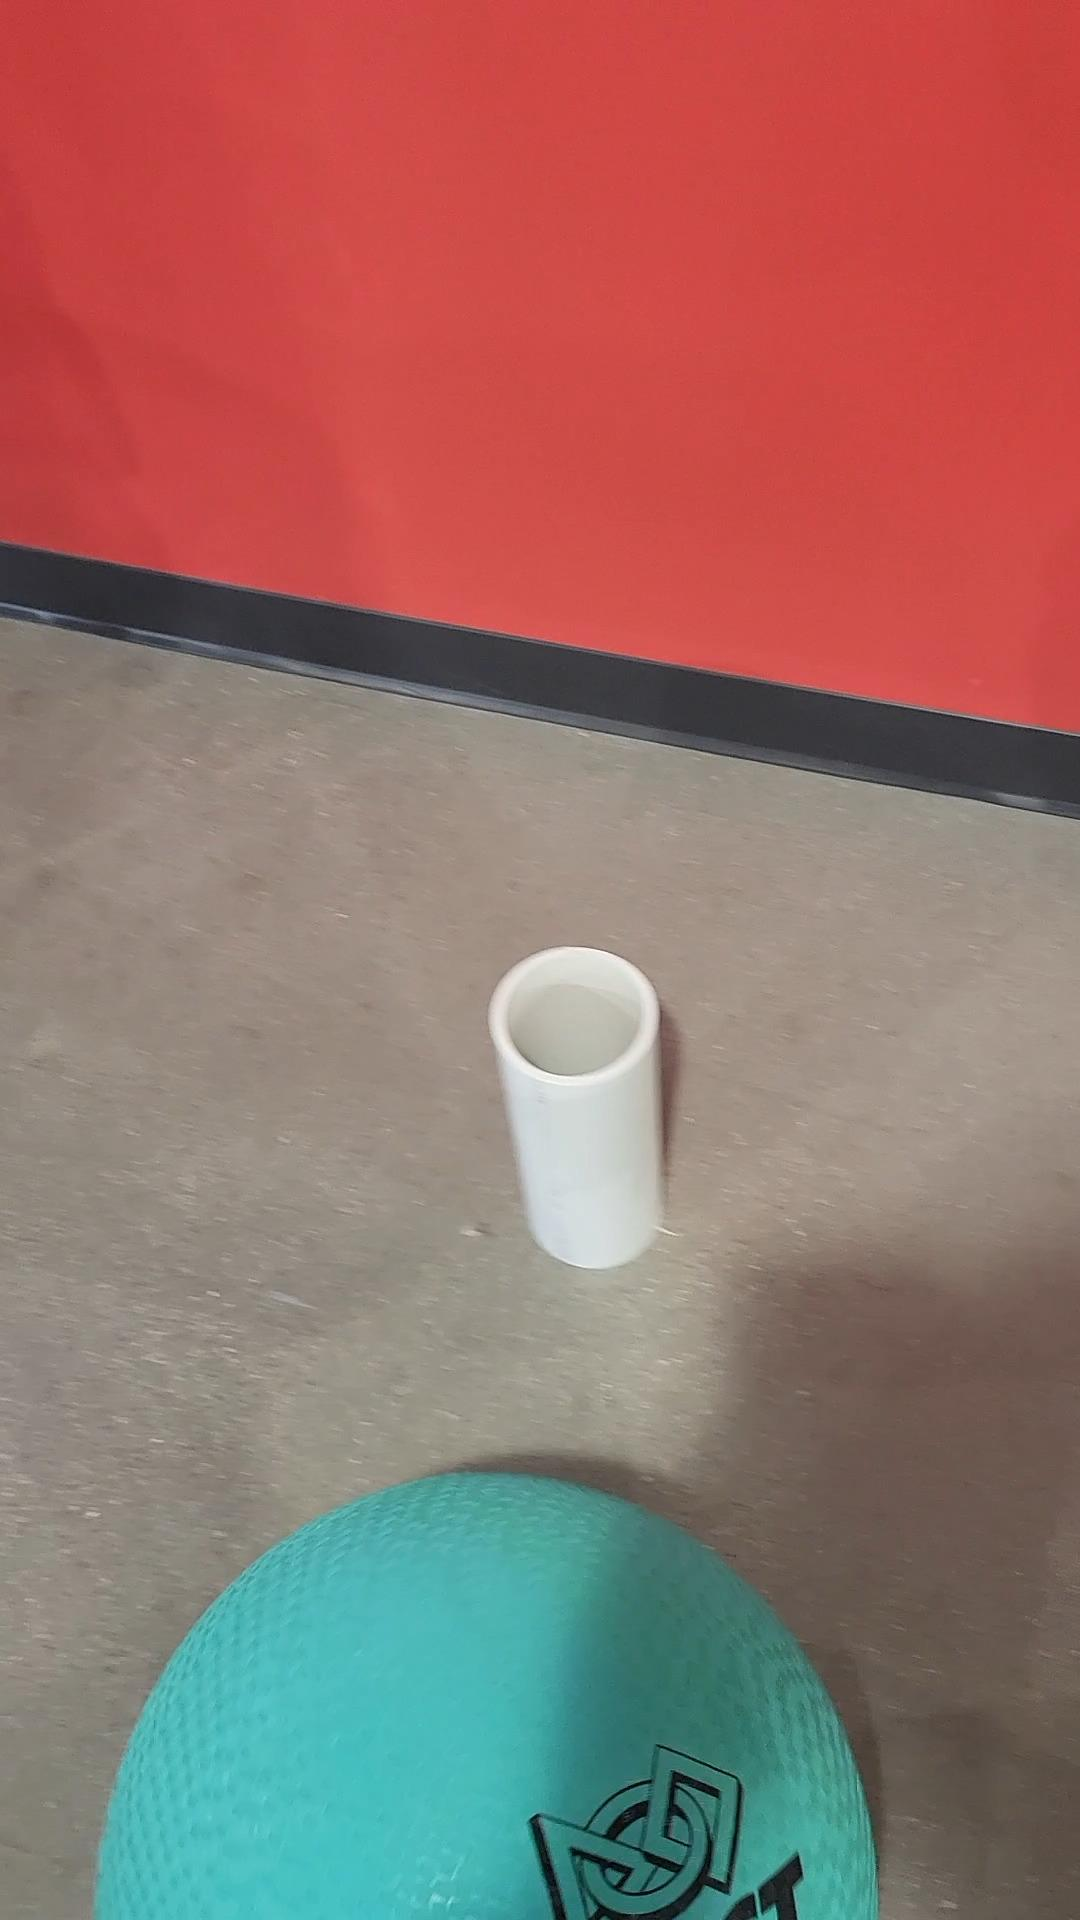algae: (95, 1469, 885, 1920)
coral: (483, 944, 665, 1270)
